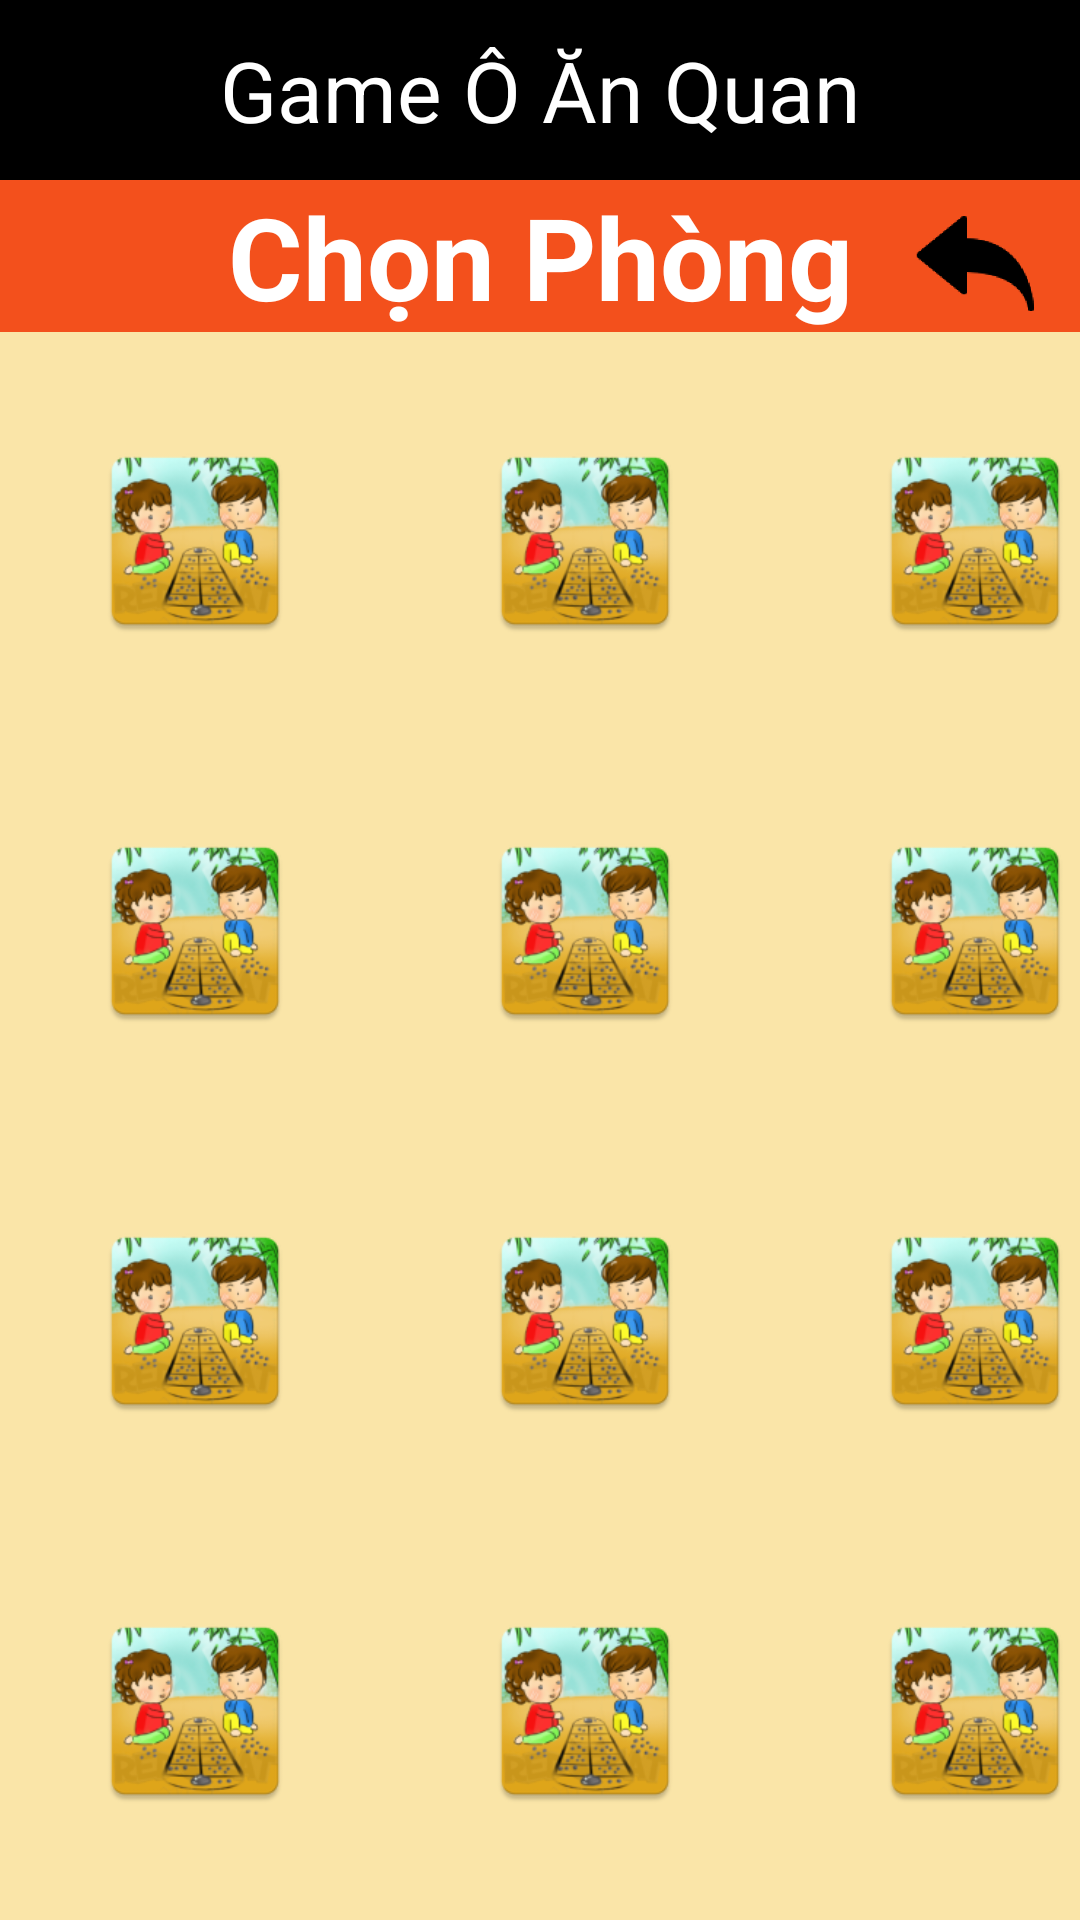

Screen size 1080 x 1920. Icon name, then its box in pixels as rect(x1, y1, x2, y2):
back: rect(916, 216, 1034, 311)
